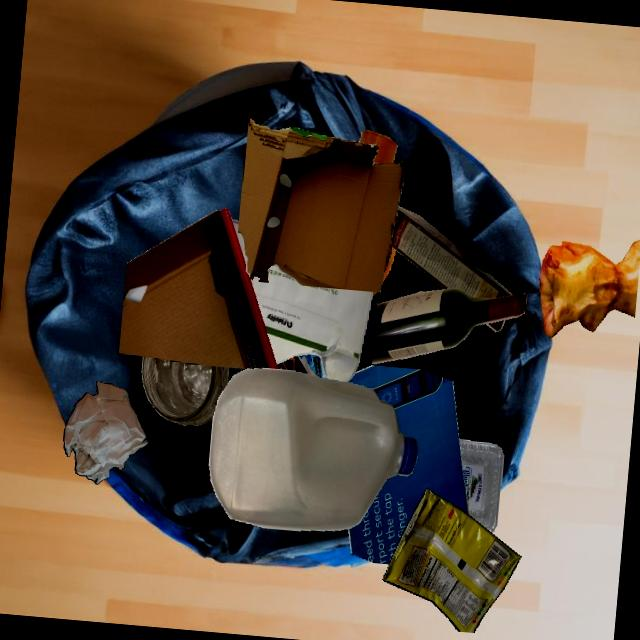biowaste: (539, 239, 640, 337), (382, 246, 395, 283)
cardboard: (237, 118, 405, 292), (118, 207, 277, 369), (391, 206, 512, 298)
glass: (371, 288, 527, 364), (141, 356, 229, 425)
paper: (347, 365, 469, 564), (262, 265, 372, 382), (63, 381, 147, 484), (276, 355, 317, 376)
plastic: (209, 367, 417, 530), (458, 438, 503, 532), (359, 130, 397, 163), (298, 353, 327, 378)
trash: (382, 488, 521, 633)
